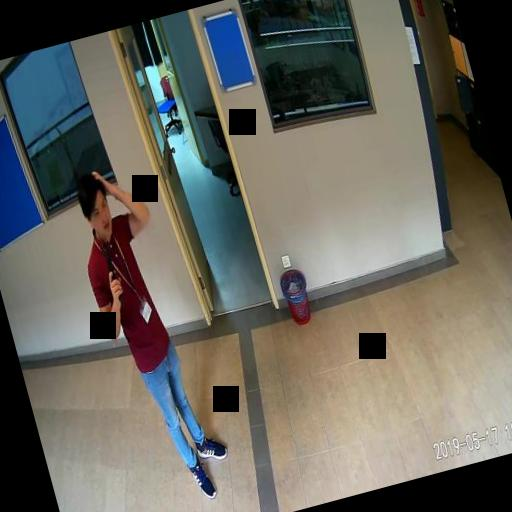Handgun: (96, 238, 124, 300)
